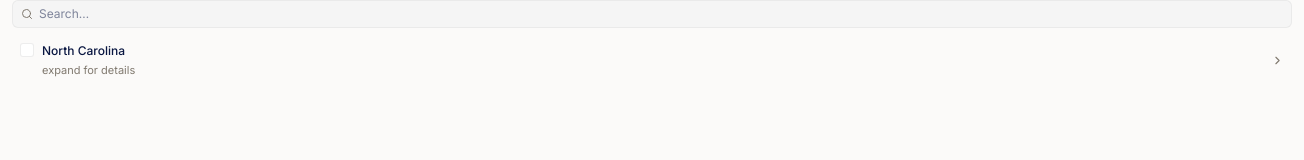
Scenario: OnboardingTreePicker lazy loadChildren › shows a retry affordance on failure, and retry calls loadChildren again
The width and height of the screenshot is (1304, 160).
Step 1. Click the button named "Show details" → (1277, 60), box [1262, 36, 1292, 84]
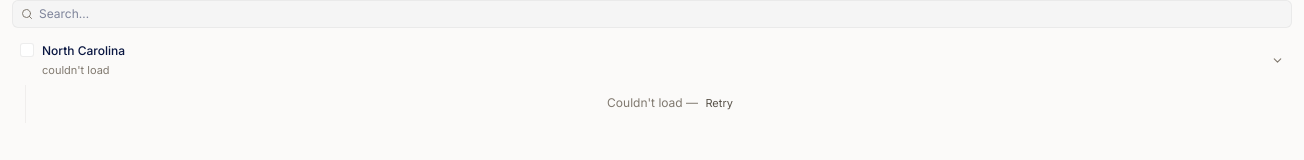
Expected: the button "Retry" is shown
Step 2. Click the button "Retry" → (719, 103), box [702, 92, 737, 113]
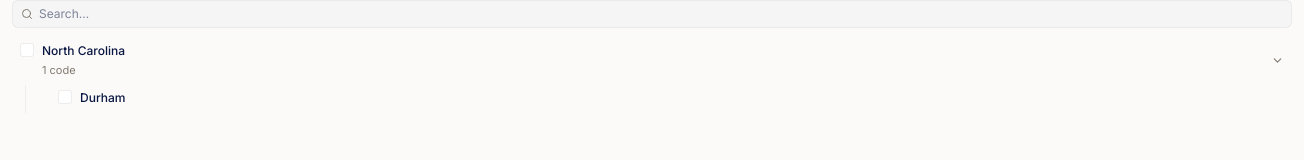
Expected: the text "Durham" is shown, [80, 88, 125, 106]
